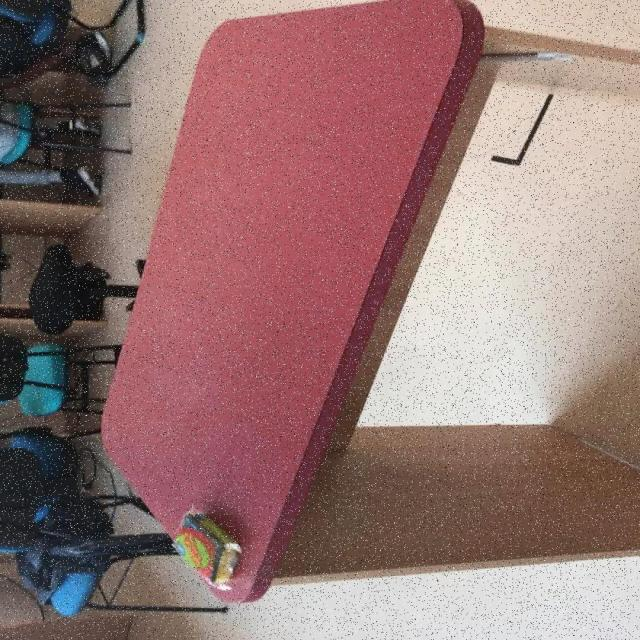Sponge: (174, 505, 244, 590)
